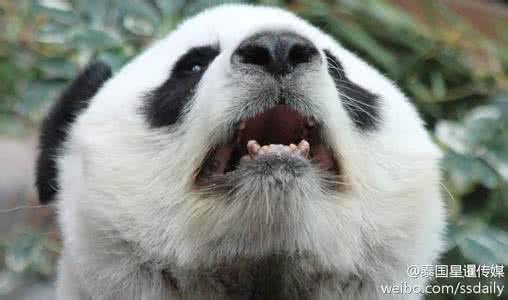panda: (34, 3, 451, 300)
